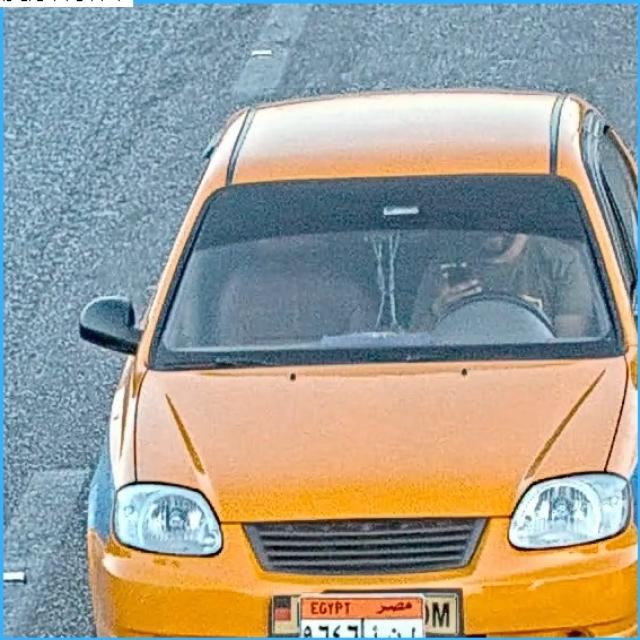windshield: (151, 187, 614, 345)
